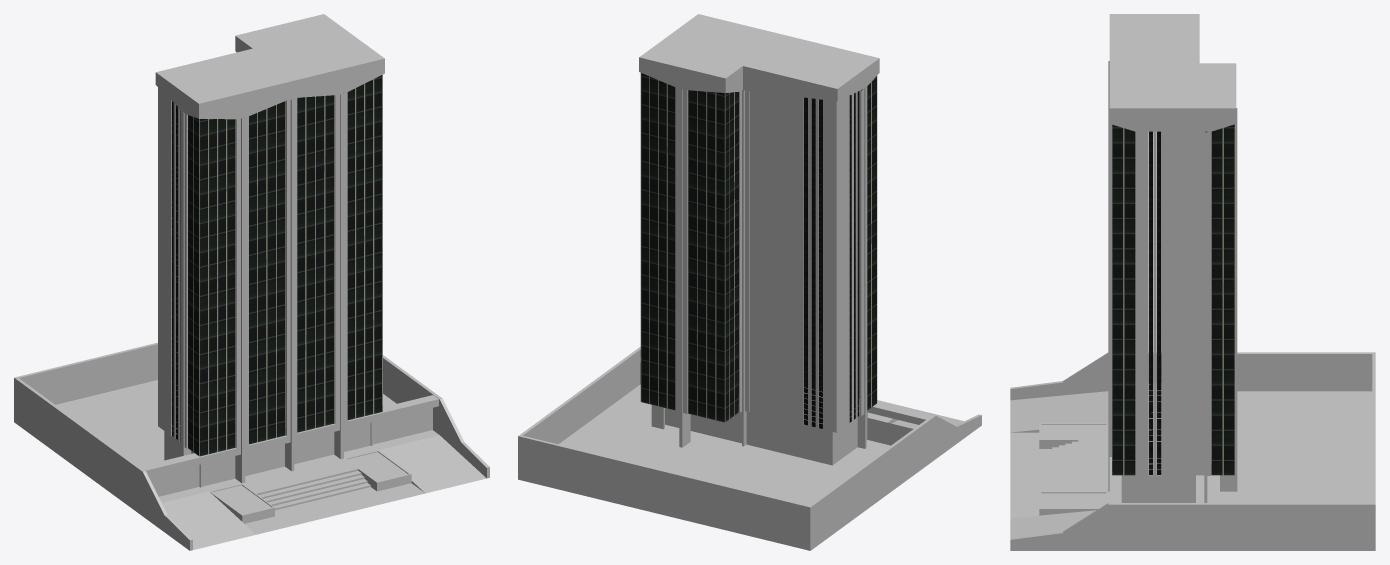
3 views of the same model, side by side, from view 1: azimuth 30°, elevation 25°; view 2: azimuth 150°, elevation 25°; view 3: azimuth 270°, elevation 25° (orthographic). The views are drawn at different scales.
Visible parts, largest first — view 1: BC-012; view 2: BC-012; view 3: BC-012.
Boxes of the visible parts, x1=… form: BC-012: x1=14, y1=14, x2=489, y2=550; BC-012: x1=518, y1=14, x2=981, y2=550; BC-012: x1=1010, y1=14, x2=1375, y2=550.
Size of what is drawn, in the model's own units: 35.45 by 44.95 by 36.
